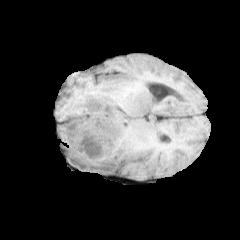glioma: (58, 80, 151, 172)
